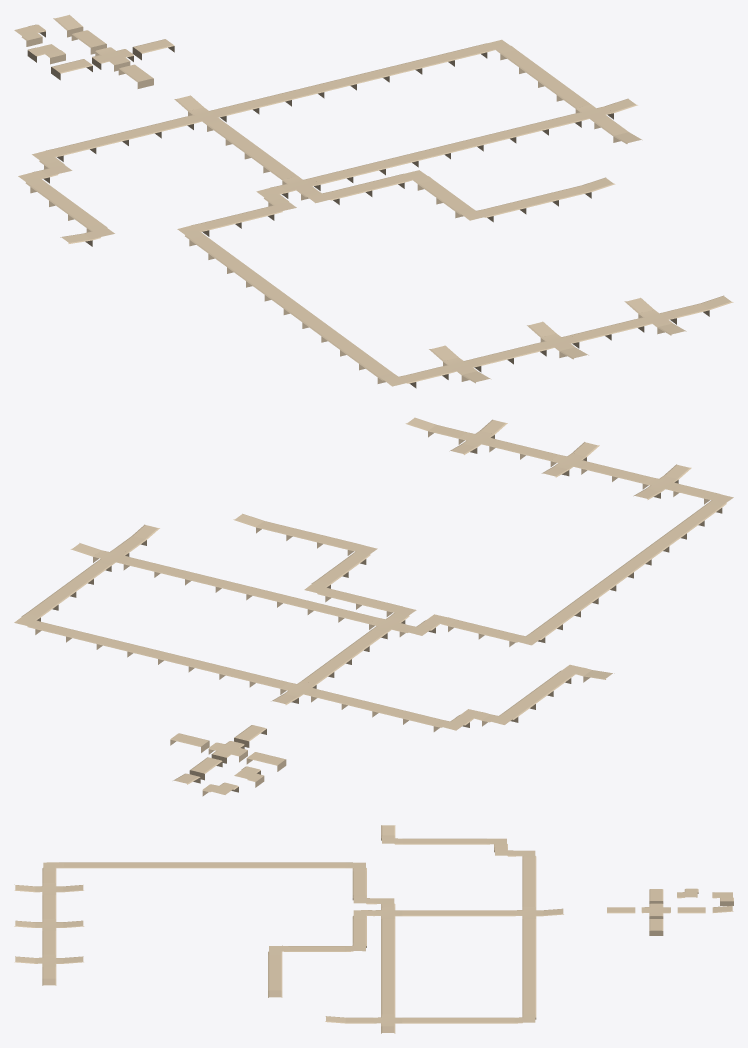
File: object_32_lev1_lev2.glb
The picture shows the model from 3 angles, top to bottom: view 1: azimuth 30°, elevation 25°; view 2: azimuth 150°, elevation 25°; view 3: azimuth 270°, elevation 25°; orthographic projection. The views are drawn at different scales.
Parts seen in each view (by area): view 1: object_32_lev1_lev2; view 2: object_32_lev1_lev2; view 3: object_32_lev1_lev2.
Part boxes in pixels (x1,y1,x2,y2): object_32_lev1_lev2: (14,14,733,388); object_32_lev1_lev2: (14,417,733,796); object_32_lev1_lev2: (14,825,733,1033).
Size of the model in its own units: 43.41 by 0.6693 by 63.26.
